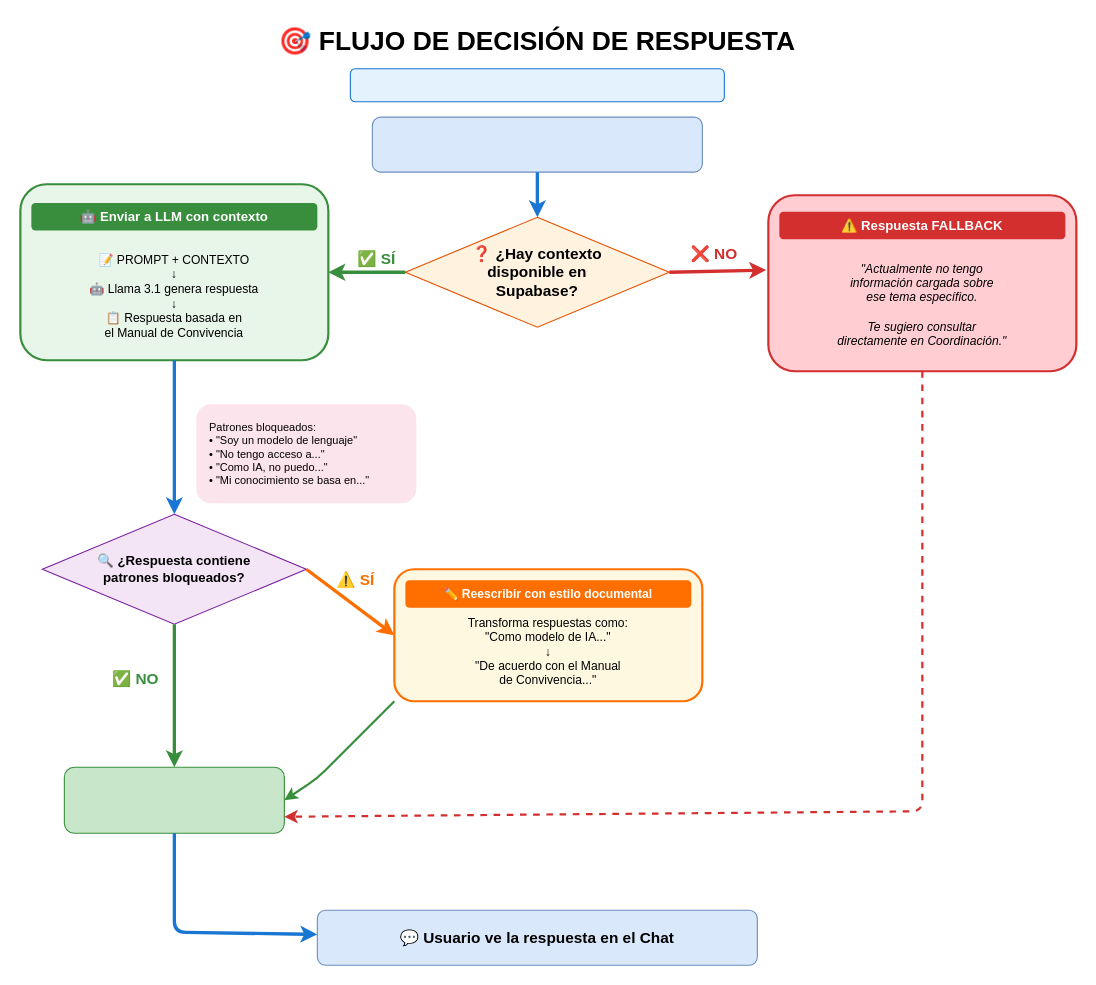
This 1096x985 diagram has some shape labels left out. The shapes that lost their labels are listed below. From the top down, each one's centre as x and y in pixels, then its label:
the point at 536,85: Sistema anti-alucinación de ARB-BOT
the point at 536,144: 📥 Pregunta del Usuario recibida
the point at 173,799: ✅ Enviar respuesta al usuario
